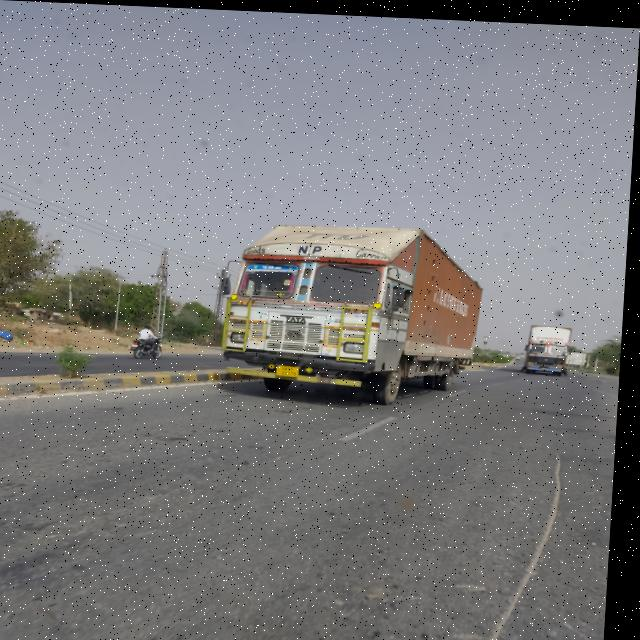plate: (280, 361, 305, 375), (135, 342, 142, 346)
